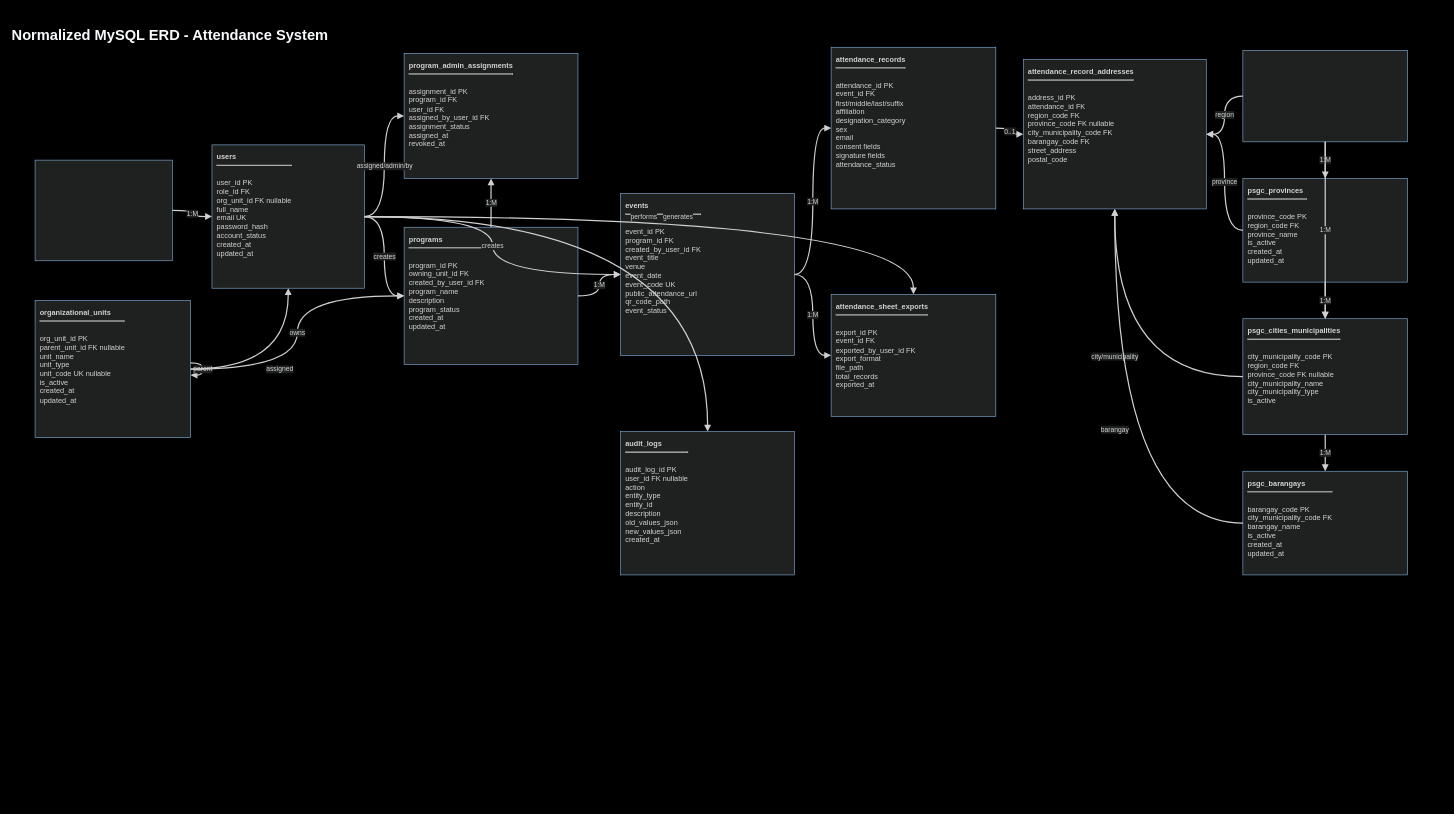
Image size: 1454x814. Some labels were removed from this diagram. The centre of each missing label's shape, as x and y in pixels:
psgc_regions region_code PK region_name is_active created_at updated_at: point 1325,96
roles role_id PK role_name UK description is_active created_at updated_at: point 103,210
